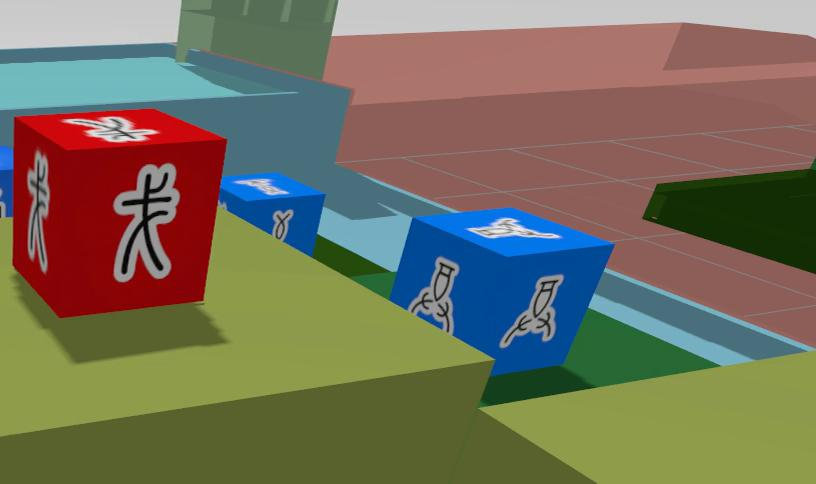KFS_FAKE: (9, 109, 226, 316), (113, 165, 178, 280), (26, 151, 48, 269)
KFS_REAL: (390, 208, 613, 374), (500, 275, 562, 347), (408, 257, 458, 333), (468, 217, 561, 238), (0, 146, 12, 217)
